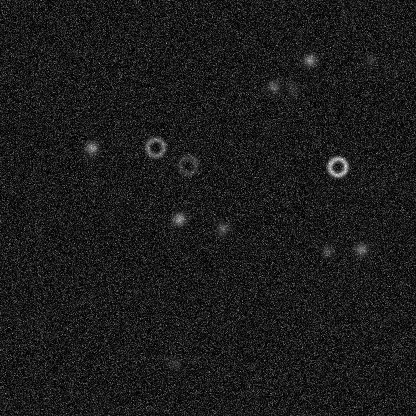Ring: (175, 153, 199, 177), (143, 135, 167, 159), (325, 154, 349, 178)
Spot: (361, 52, 377, 68), (214, 220, 230, 236), (83, 139, 99, 155), (353, 241, 369, 257), (171, 211, 187, 227), (265, 78, 281, 94), (301, 52, 317, 68), (284, 80, 300, 96), (166, 355, 182, 371), (319, 243, 335, 259)
